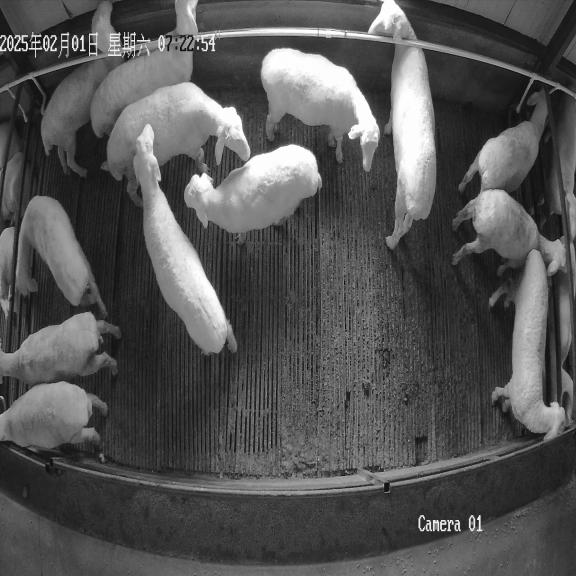drinking: (459, 92, 547, 193)
stand: (134, 125, 237, 354), (102, 82, 250, 206), (368, 0, 436, 249), (90, 0, 198, 138), (489, 250, 567, 440), (261, 48, 379, 172), (41, 1, 123, 177), (184, 144, 321, 244), (15, 196, 107, 316), (452, 189, 565, 275), (0, 312, 120, 386), (0, 381, 107, 449)
